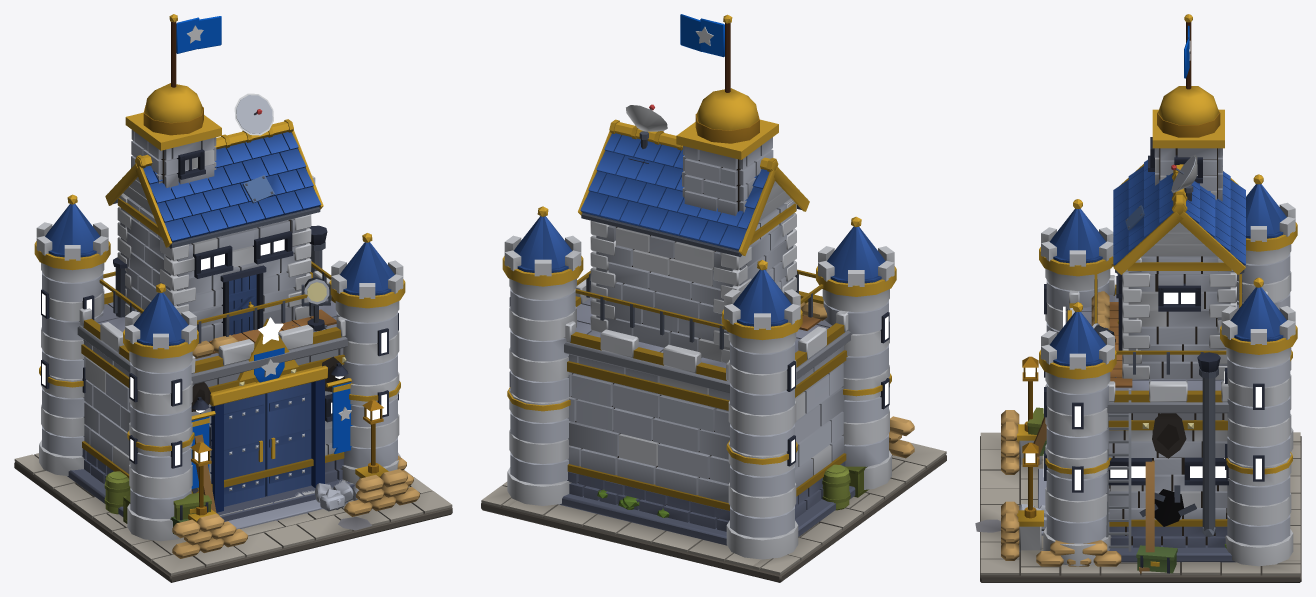
Rendered from b_bunker_5.glb.
3 renders of one model, left to right at view 1: azimuth 30°, elevation 25°; view 2: azimuth 150°, elevation 25°; view 3: azimuth 270°, elevation 25°, orthographic. The views are drawn at different scales.
Parts seen in each view (by area): view 1: body, lv10_extra, sway_flag, sway_banner_r, win_glow, dmg2_bruch, spin_schuessel, sway_scheinwerfer, sway_banner_l, dmg1_spuren; view 2: body, sway_flag, lv10_extra, spin_schuessel; view 3: body, dmg2_bruch, lv10_extra, win_glow, dmg1_spuren, spin_schuessel.
Boxes of the visible parts, x1,y1,x2,y2 form: body: (14,14,452,582); lv10_extra: (104,318,407,538); sway_flag: (176,16,221,53); sway_banner_r: (326,378,353,453); win_glow: (42,168,386,465); dmg2_bruch: (191,434,358,512); spin_schuessel: (234,93,273,135); sway_scheinwerfer: (301,277,330,306); sway_banner_l: (191,411,215,488); dmg1_spuren: (191,356,344,411); body: (481,14,946,582); sway_flag: (680,14,724,57); lv10_extra: (822,416,914,510); spin_schuessel: (626,104,667,139); body: (975,14,1301,582); dmg2_bruch: (1019,417,1196,573); lv10_extra: (1001,310,1177,573); win_glow: (1043,175,1261,490); dmg1_spuren: (1152,413,1186,458); spin_schuessel: (1171,155,1197,193).
Bounding box in the file's own units: 7.41 × 11.74 × 7.22.
